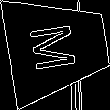M_E: (29, 21, 86, 74)
